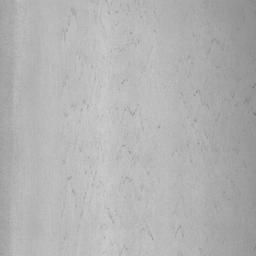Silk spot: (124, 104, 137, 118), (120, 176, 134, 185)
